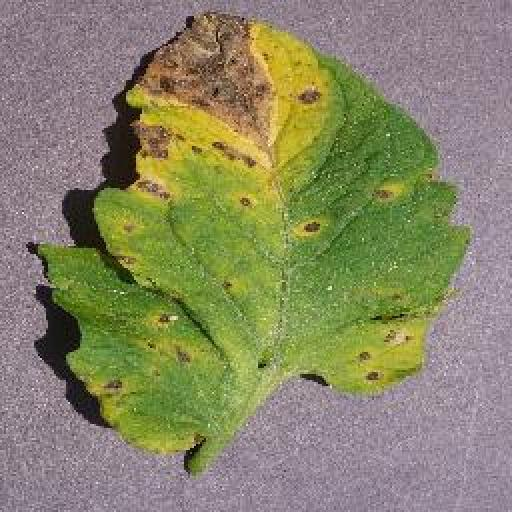disease_tomato: (36, 10, 475, 450)
